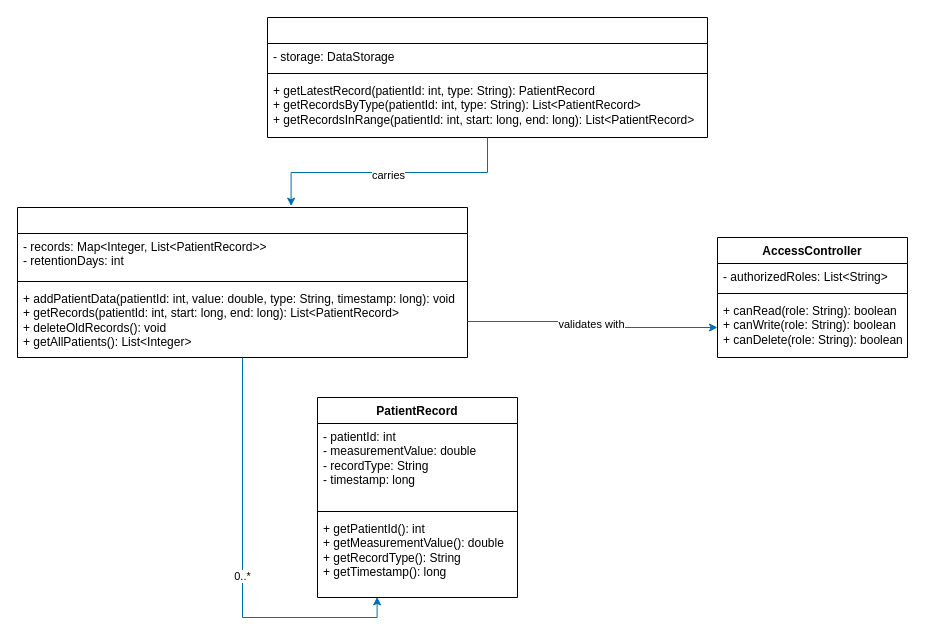
Some shapes in this 925 by 643 pixel diagram are drawn without their labels. The box of each missing label's shape, as (x1, y1, x2, y2) in pixels:
DataRetriever: (266, 16, 708, 138)
DataStorage: (16, 206, 468, 358)
